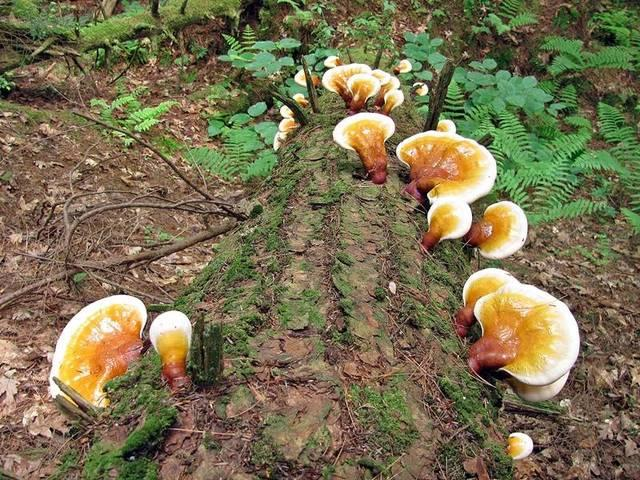Non-edible Mushroom: (271, 42, 427, 193), (454, 267, 580, 402), (395, 118, 497, 250), (47, 293, 148, 422), (148, 309, 193, 392)
